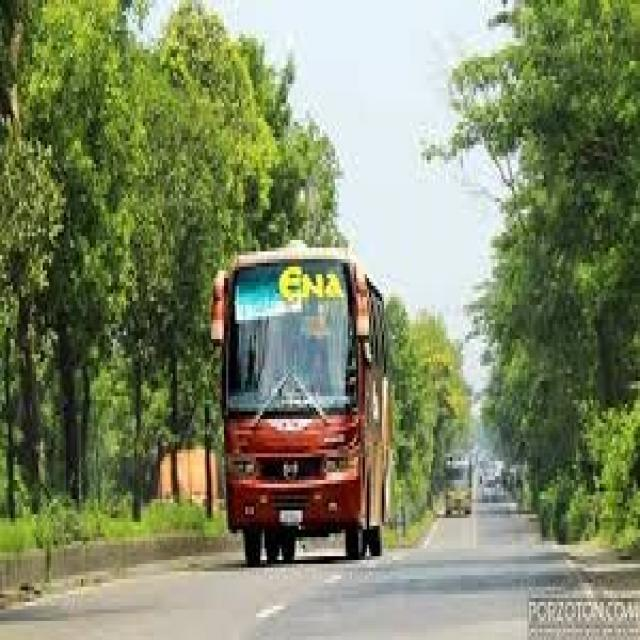bus: (207, 222, 398, 578), (439, 436, 481, 537)
